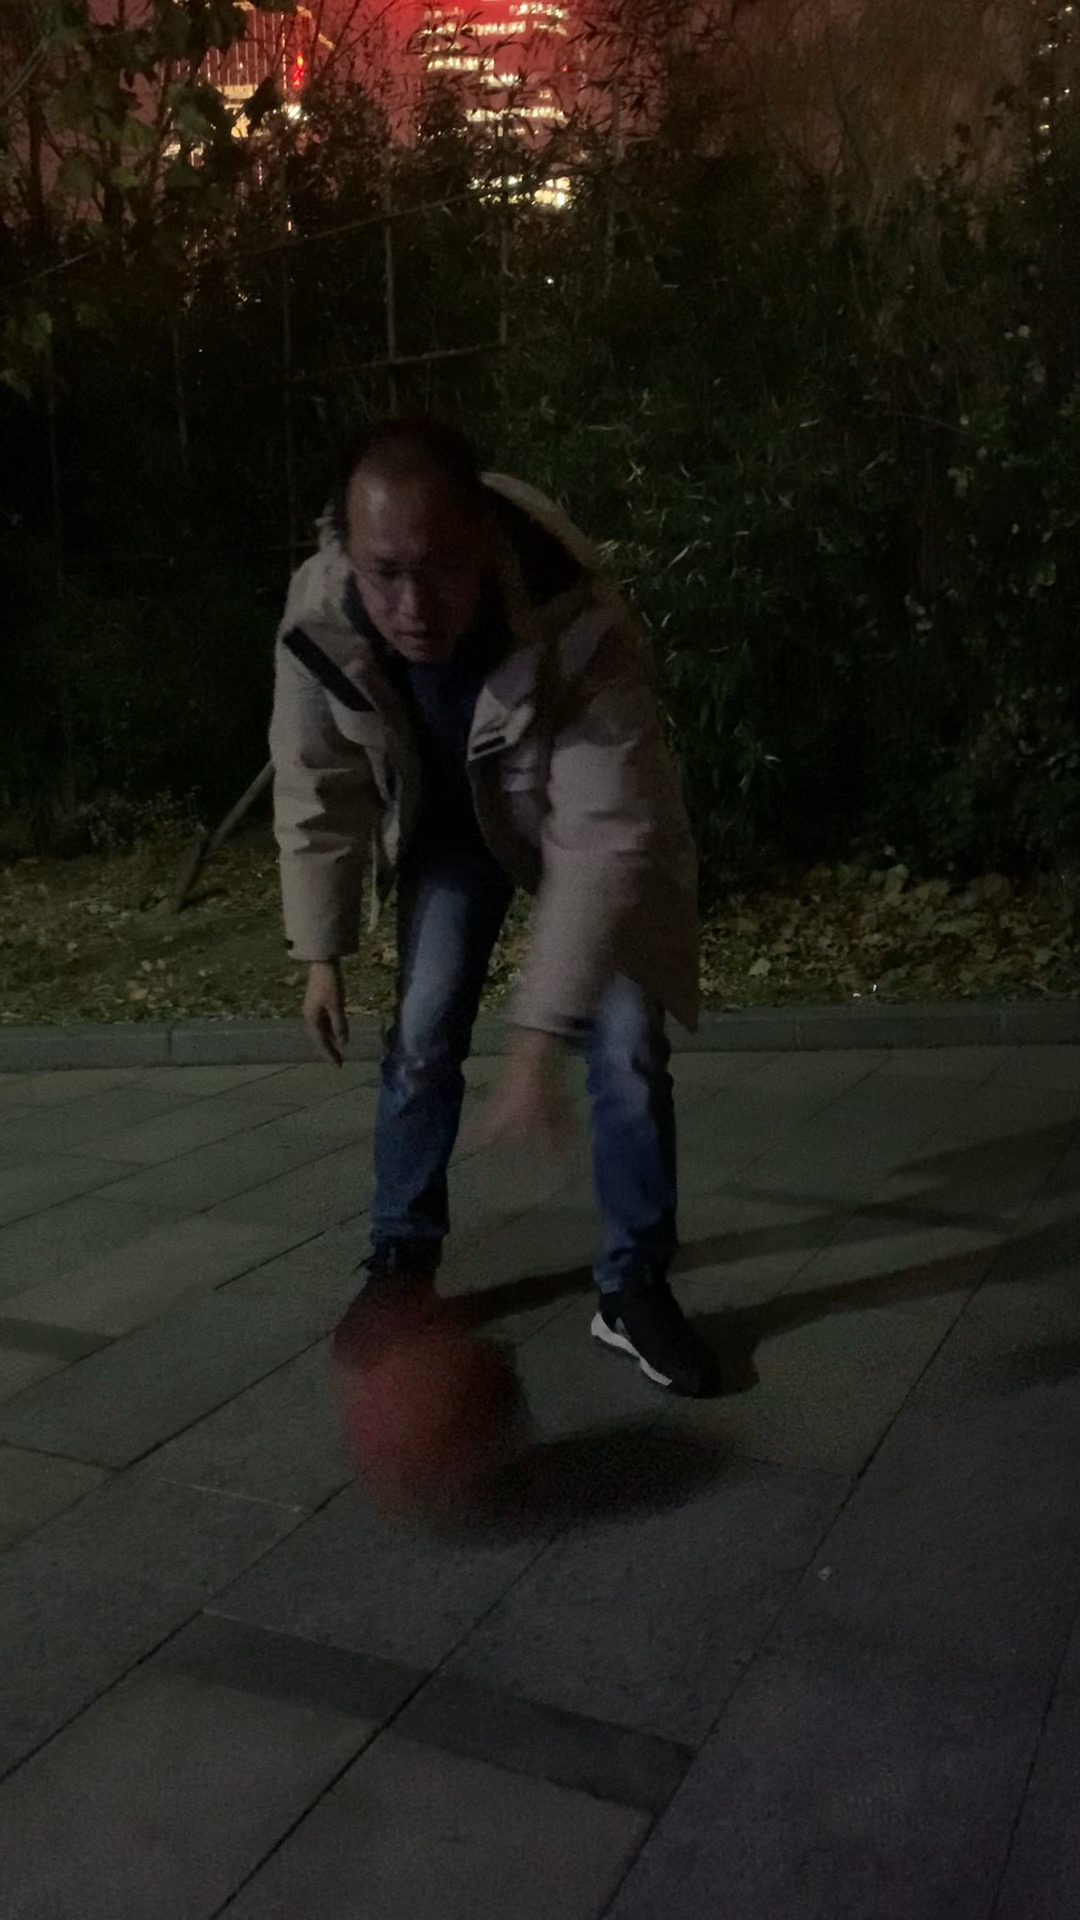ball: (353, 1341, 546, 1524)
